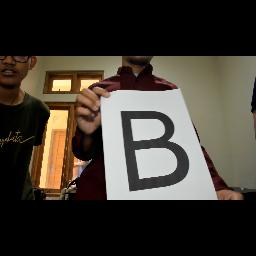b: (117, 107, 191, 195)
